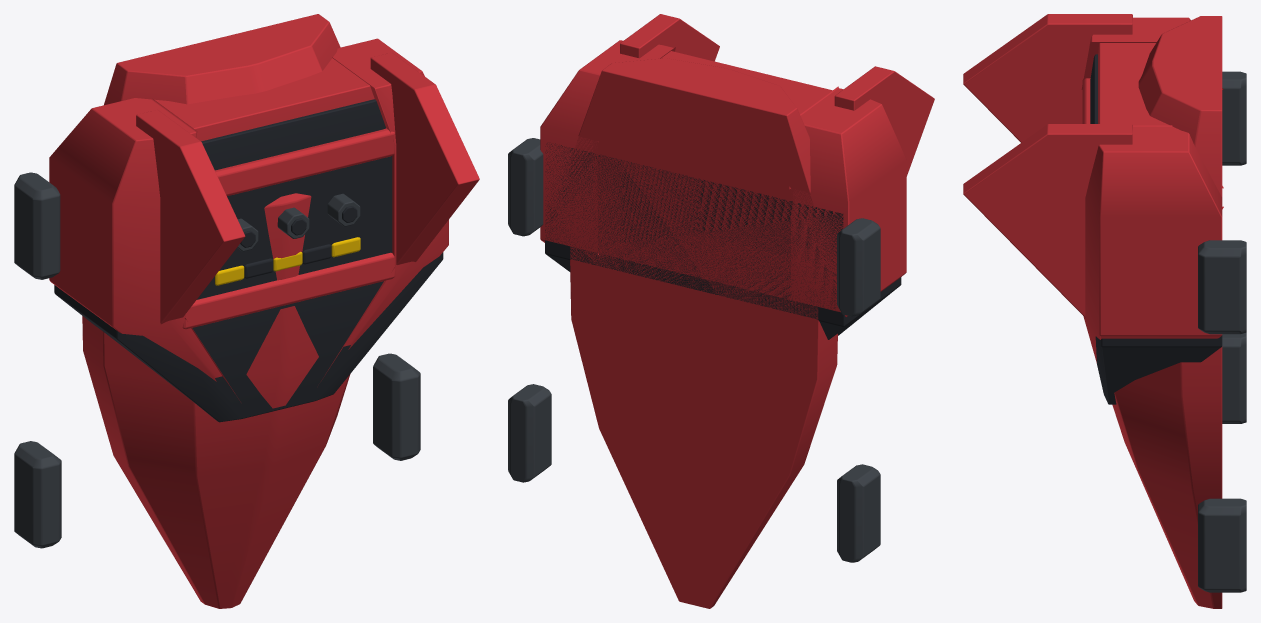
File: ThighBack_Set07_Salvo.fbx
The picture shows the model from 3 angles, left to right: view 1: azimuth 30°, elevation 25°; view 2: azimuth 150°, elevation 25°; view 3: azimuth 270°, elevation 25°; orthographic projection. The views are drawn at different scales.
Visible parts, largest first — view 1: ThighBack_Set07_Salvo; view 2: ThighBack_Set07_Salvo; view 3: ThighBack_Set07_Salvo.
Boxes of the visible parts, x1=… form: ThighBack_Set07_Salvo: x1=14, y1=14, x2=479, y2=608; ThighBack_Set07_Salvo: x1=508, y1=14, x2=934, y2=608; ThighBack_Set07_Salvo: x1=963, y1=14, x2=1246, y2=608.
Bounding box in the file's own units: 0.53 × 0.73 × 0.3485.
